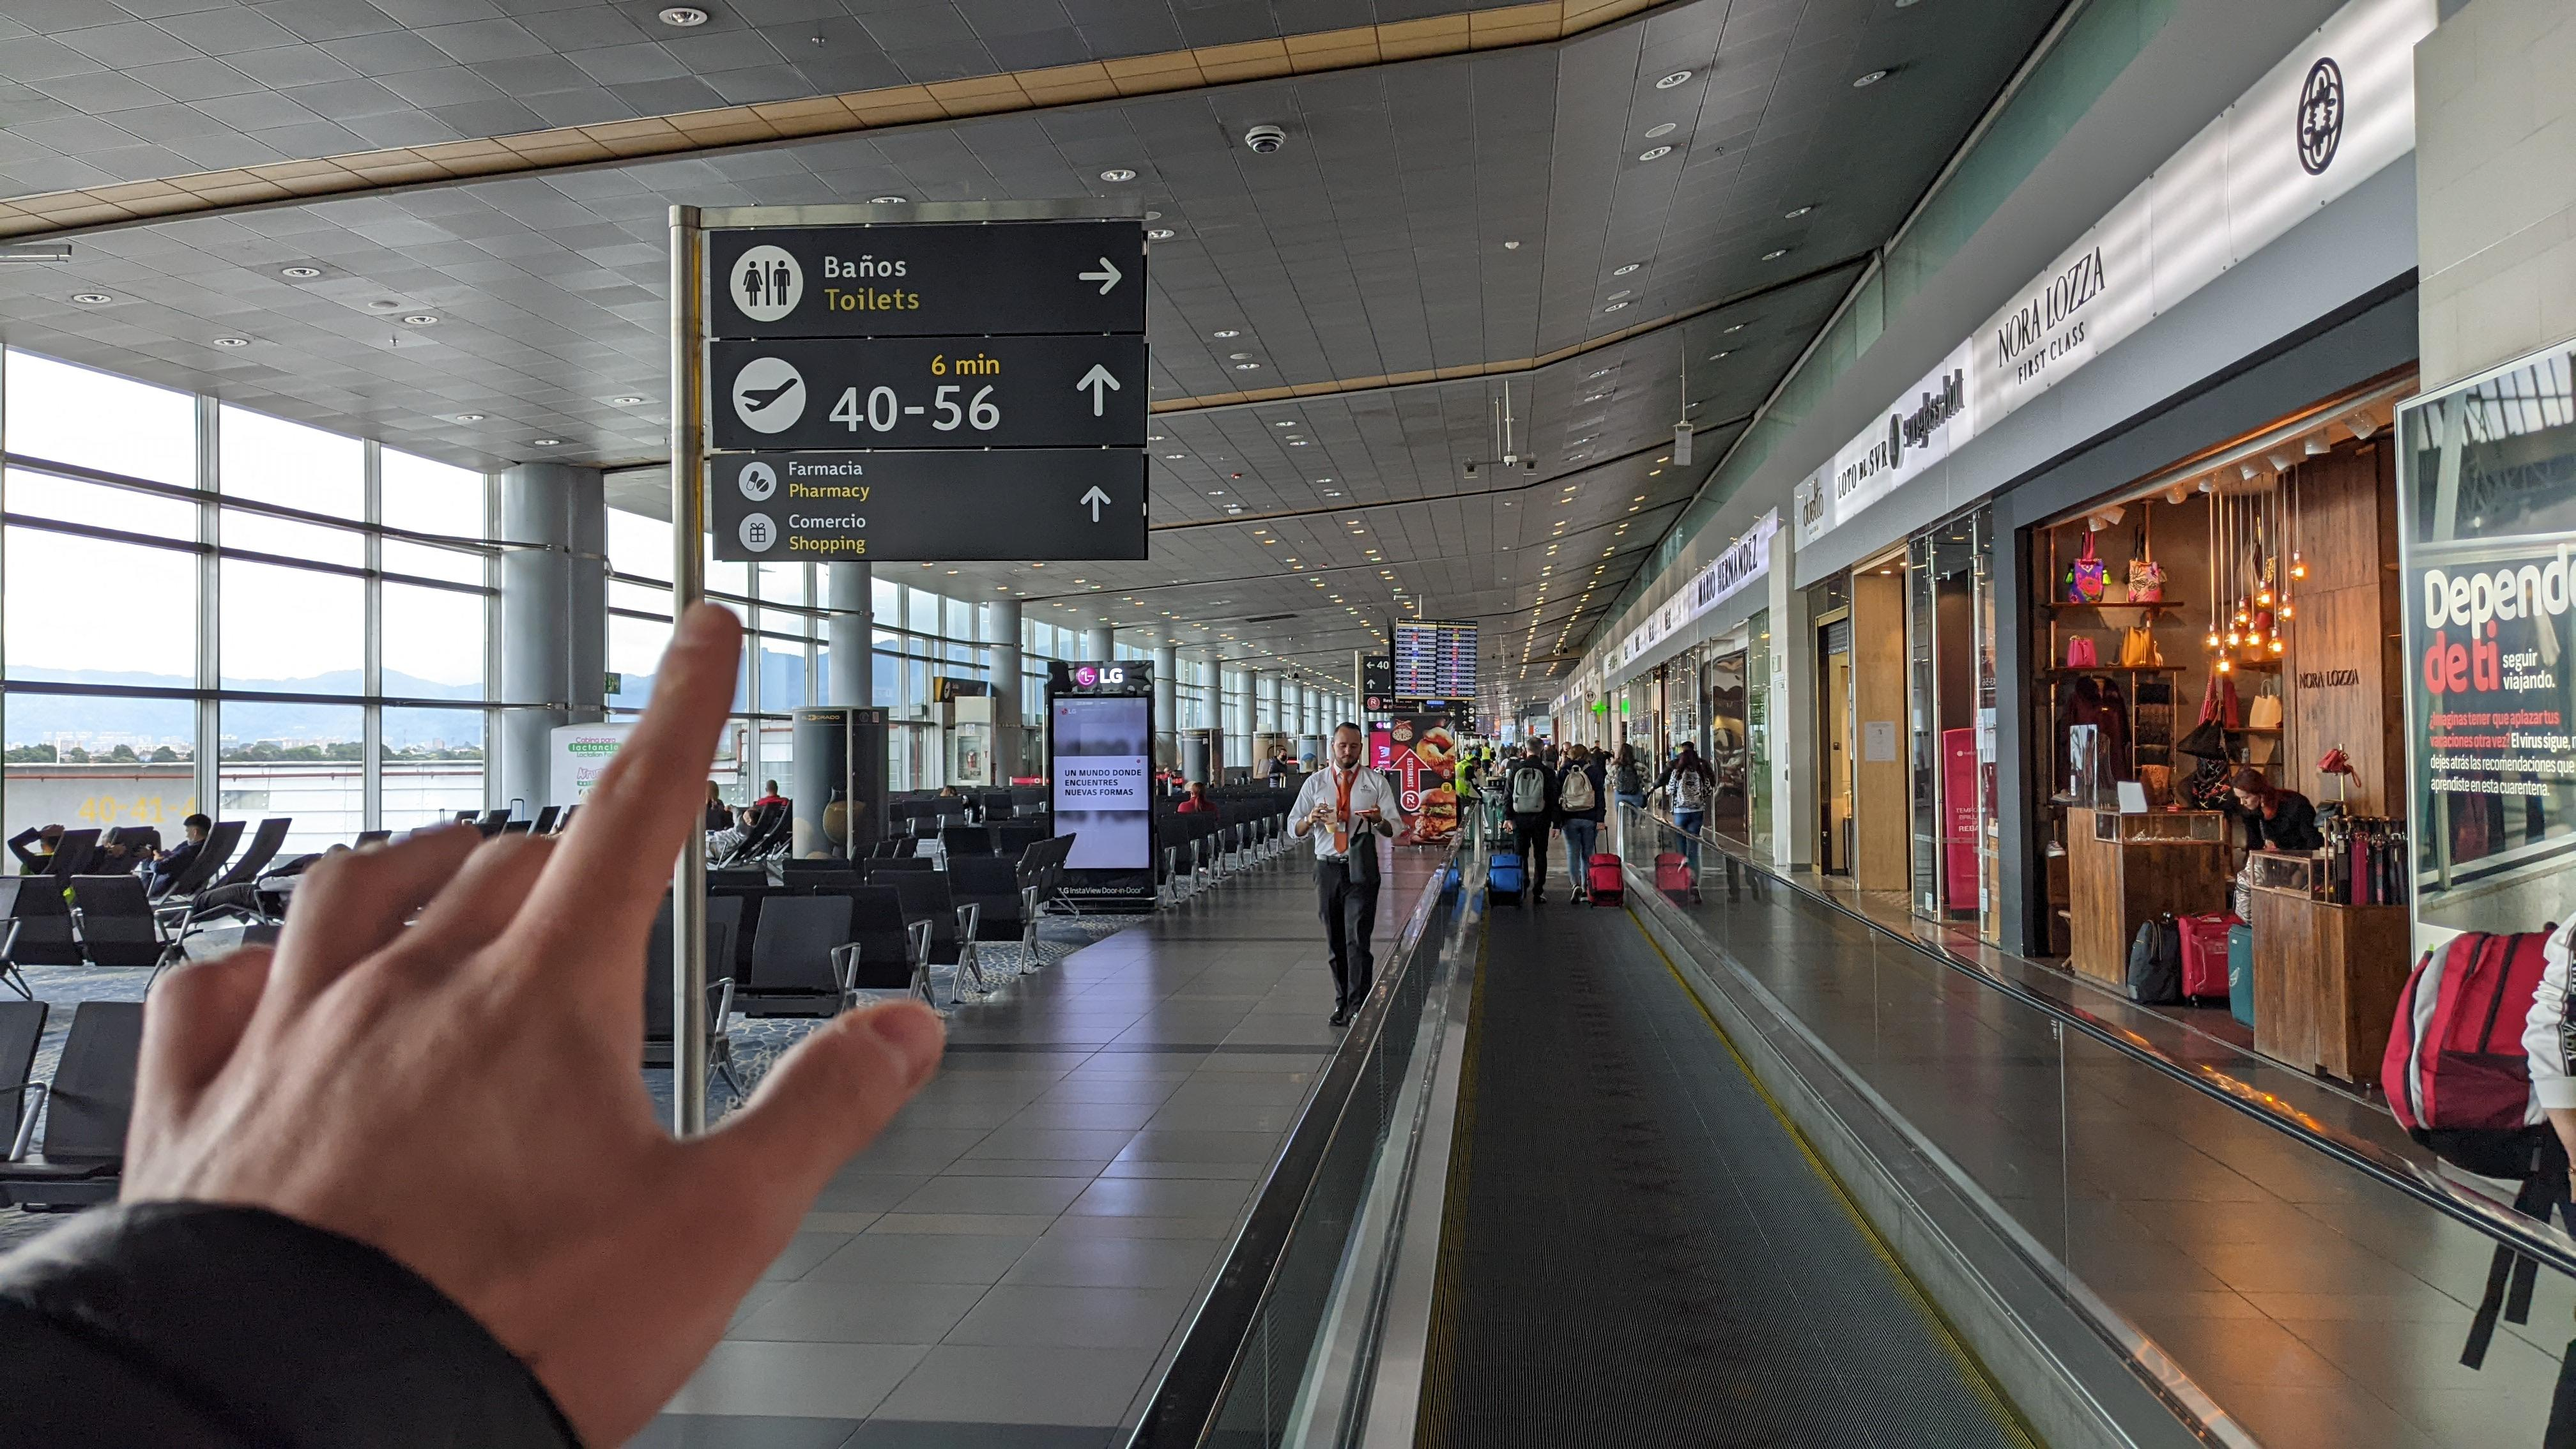airplane symbol: (741, 373, 801, 414)
bathrooms: (743, 257, 793, 308)
emergency exit: (609, 674, 616, 694)
left arrow: (1366, 660, 1375, 669)
right arrow: (1074, 255, 1125, 297)
up arrow: (1067, 357, 1125, 425), (1077, 483, 1113, 525), (1366, 678, 1376, 690)
